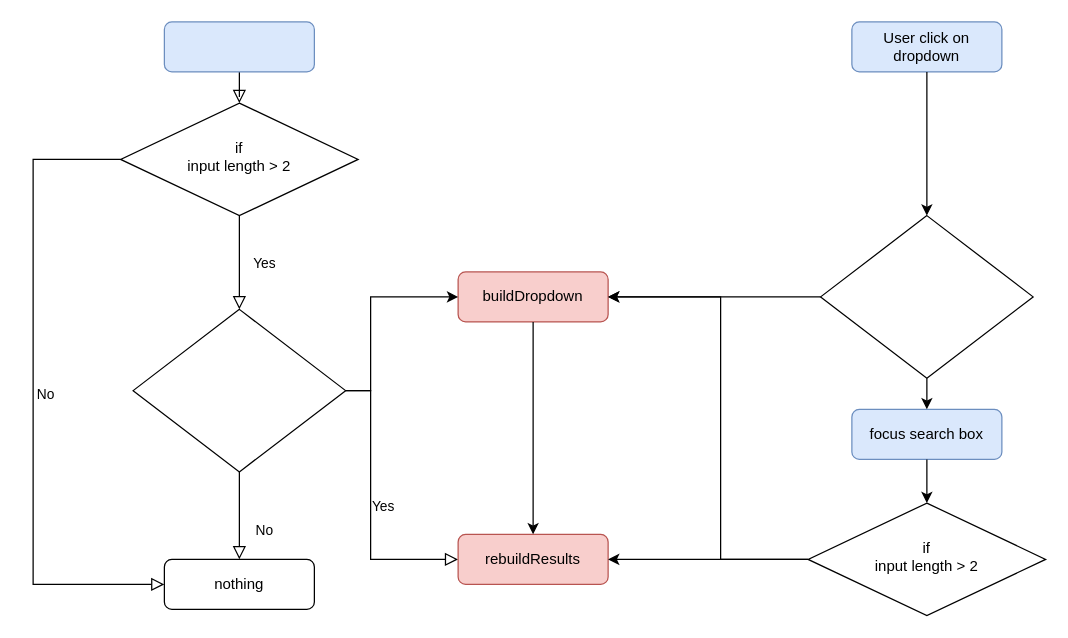
This 1068x638 diagram has some shape labels left out. Each missing label, with the centre of its shape:
"Make comparaison. found somethings" belongs at pixel 239 390.
"User focus main search box" belongs at pixel 238 46.
"user focus search box click on keyword" belongs at pixel 926 296.
